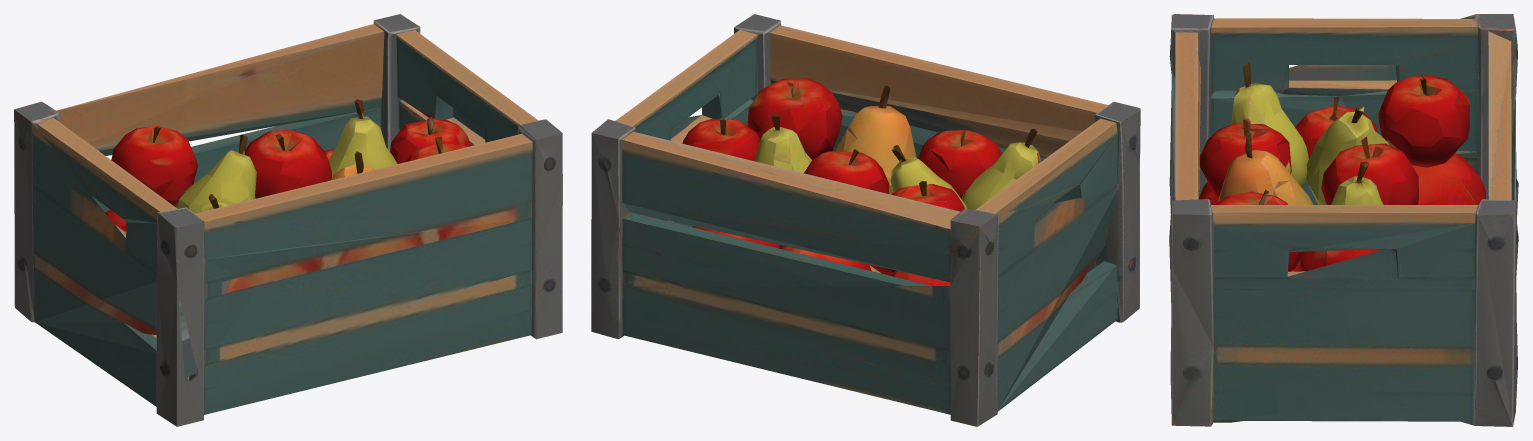
File: fruitCrate.glb
3 views of the same model, side by side, from view 1: azimuth 30°, elevation 25°; view 2: azimuth 150°, elevation 25°; view 3: azimuth 270°, elevation 25° (orthographic). The views are drawn at different scales.
Parts seen in each view (by area): view 1: Mesh_0; view 2: Mesh_0; view 3: Mesh_0.
Part boxes in pixels (x1,y1,x2,y2): Mesh_0: [14, 14, 562, 426]; Mesh_0: [591, 14, 1140, 426]; Mesh_0: [1169, 14, 1518, 426].
Bounding box in the file's own units: 0.5522 × 0.2721 × 0.4.
1 material, 1 textured.
